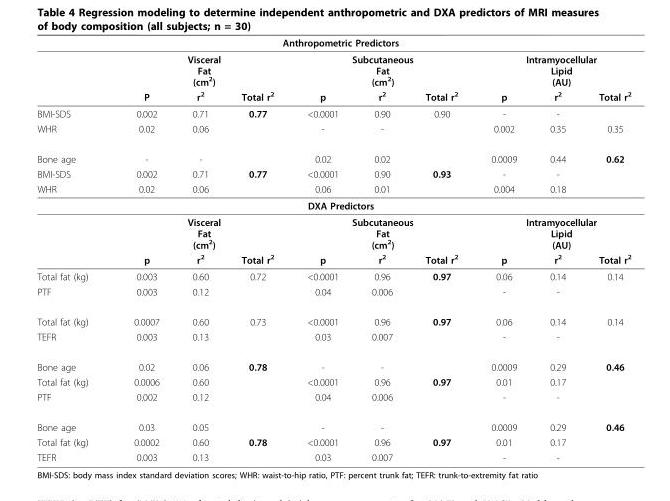table: (36, 36, 630, 462)
table column: (36, 36, 110, 462), (224, 36, 290, 462), (408, 36, 474, 462), (110, 36, 175, 462), (290, 36, 354, 462), (474, 36, 532, 462), (354, 36, 408, 462), (175, 36, 224, 462), (532, 36, 581, 462), (581, 36, 630, 462)
table column header: (36, 36, 630, 104)
table projected row header: (36, 196, 630, 213)
table row: (36, 50, 630, 88), (36, 213, 630, 251), (36, 120, 630, 143), (36, 283, 630, 306), (36, 328, 630, 351), (36, 351, 630, 374), (36, 411, 630, 434), (36, 143, 630, 165), (36, 306, 630, 328), (36, 389, 630, 411), (36, 196, 630, 213), (36, 88, 630, 104), (36, 104, 630, 120), (36, 165, 630, 181), (36, 251, 630, 267), (36, 267, 630, 283), (36, 181, 630, 196), (36, 374, 630, 389), (36, 434, 630, 449), (36, 36, 630, 50), (36, 449, 630, 462)
table spanning cell: (36, 36, 630, 50), (290, 50, 474, 88), (290, 213, 474, 251), (110, 50, 290, 88), (110, 213, 290, 251), (474, 50, 630, 88), (474, 213, 630, 251)
